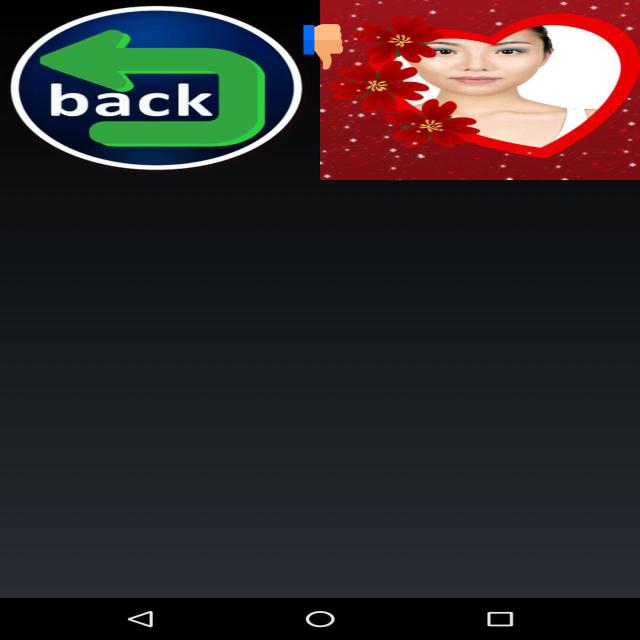obstruction: (304, 23, 343, 71)
